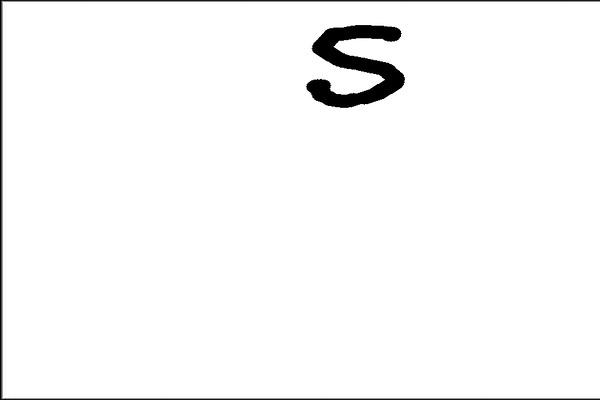S: (295, 20, 410, 114)
